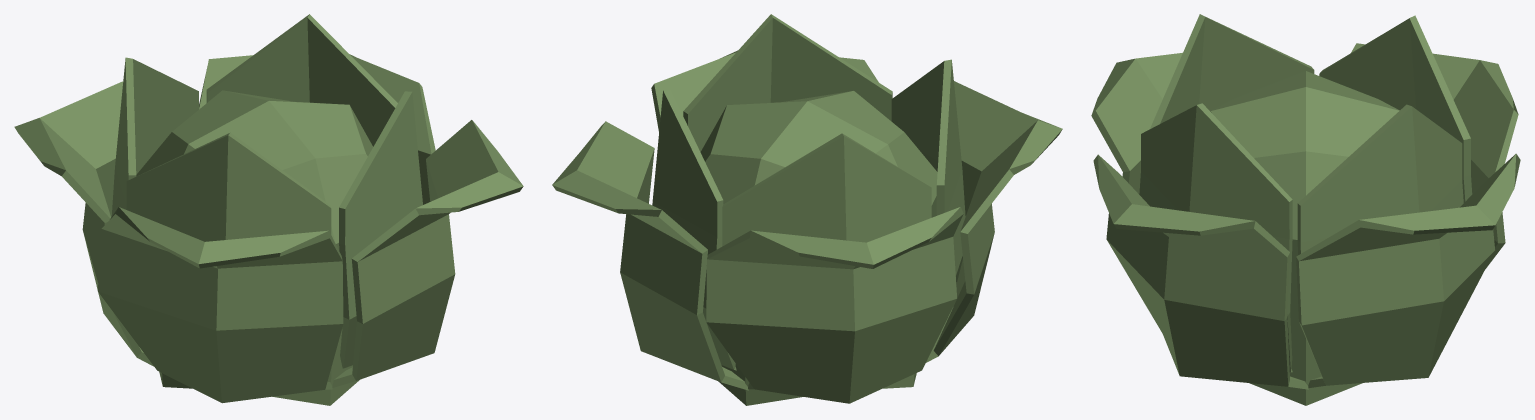
3 renders of one model, left to right at view 1: azimuth 30°, elevation 25°; view 2: azimuth 150°, elevation 25°; view 3: azimuth 270°, elevation 25°, orthographic. The views are drawn at different scales.
Parts seen in each view (by area): view 1: mesh_0; view 2: mesh_0; view 3: mesh_0.
Boxes of the visible parts, x1=… form: mesh_0: x1=14, y1=14, x2=523, y2=405; mesh_0: x1=552, y1=14, x2=1062, y2=405; mesh_0: x1=1091, y1=14, x2=1520, y2=405.
Bounding box in the file's own units: 1.66 × 1.37 × 1.66.
